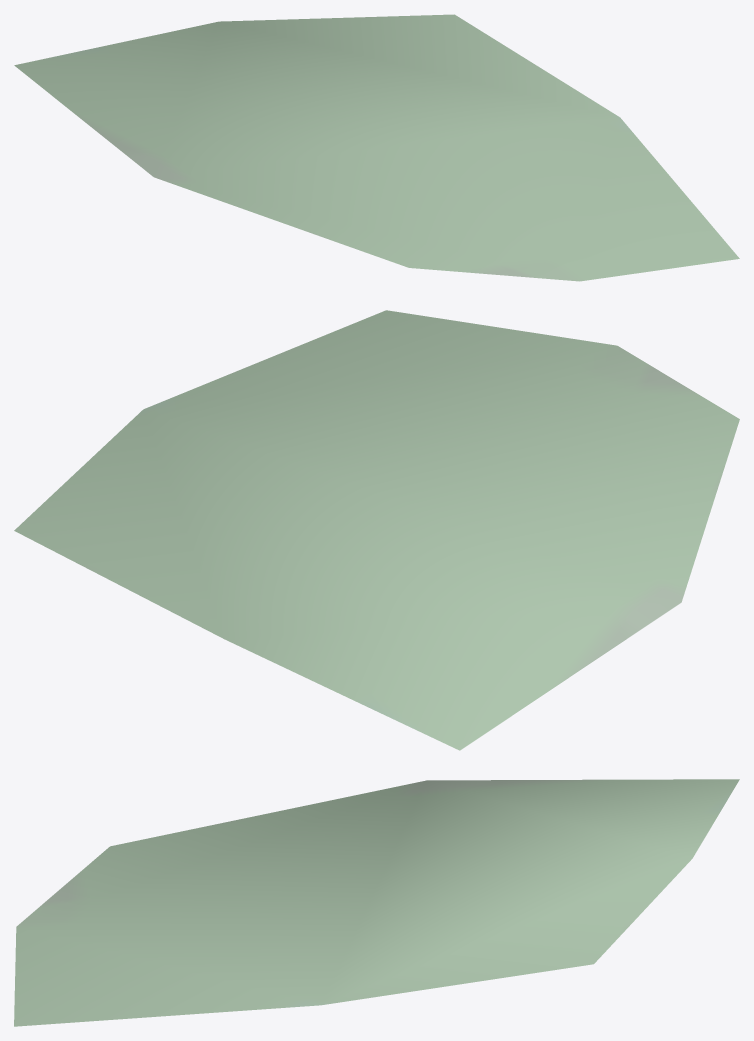
Rendered from TROLLHOLE02_HOLECAP07.fbx.
3 renders of one model, top to bottom at view 1: azimuth 30°, elevation 25°; view 2: azimuth 150°, elevation 25°; view 3: azimuth 270°, elevation 25°, orthographic. The views are drawn at different scales.
Parts seen in each view (by area): view 1: TROLLHOLE02_HOLECAP07; view 2: TROLLHOLE02_HOLECAP07; view 3: TROLLHOLE02_HOLECAP07.
Part boxes in pixels (x1,y1,x2,y2): TROLLHOLE02_HOLECAP07: (14,14,739,281); TROLLHOLE02_HOLECAP07: (14,310,739,750); TROLLHOLE02_HOLECAP07: (14,779,739,1026).
Size of the model in its own units: 19217 by 2477 by 26960.
Materials: 1 (1 with a texture image).
